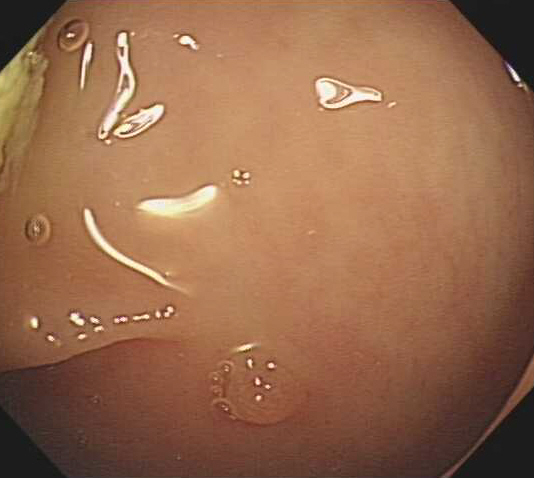others: (215, 350, 308, 427)
